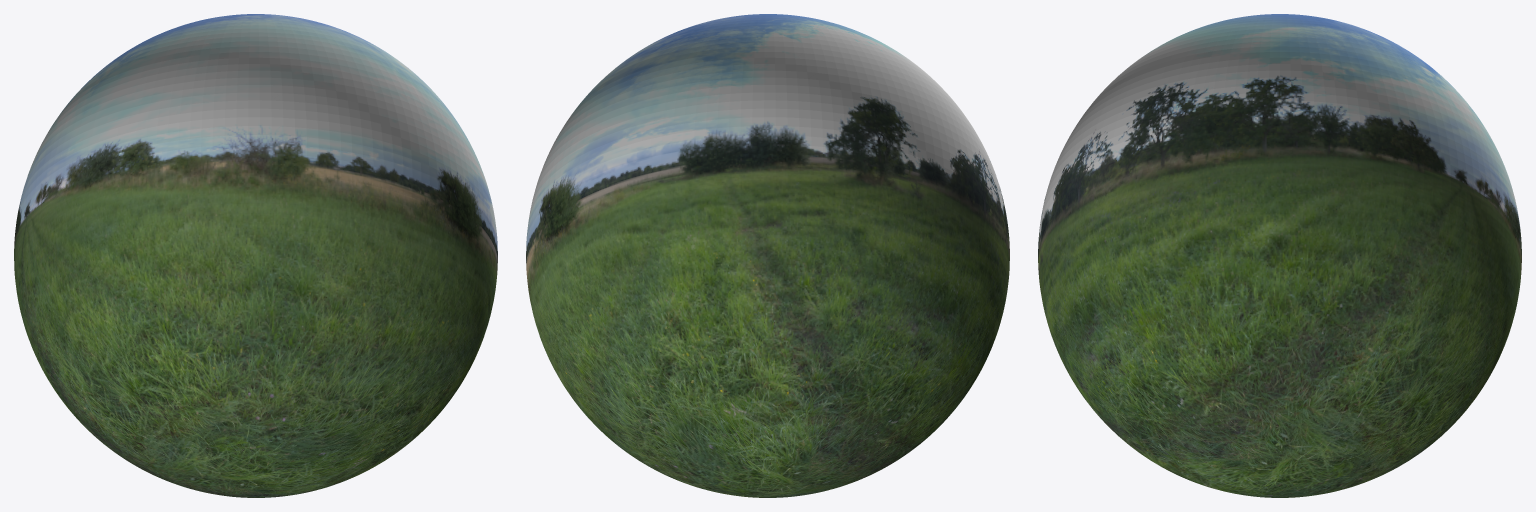
The model's file is skyboxSphere.glb.
3 renders of one model, left to right at view 1: azimuth 30°, elevation 25°; view 2: azimuth 150°, elevation 25°; view 3: azimuth 270°, elevation 25°, orthographic.
Visible parts, largest first — view 1: Grid; view 2: Grid; view 3: Grid.
Boxes of the visible parts, x1,y1,x2,y2 form: Grid: [14, 14, 497, 497]; Grid: [526, 14, 1009, 497]; Grid: [1038, 14, 1521, 497].
Bounding box in the file's own units: 2 × 2 × 2.
1 material, 1 textured.
